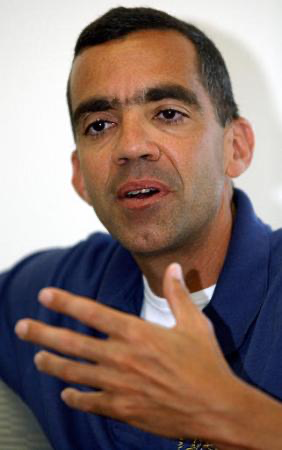Face: (60, 68, 232, 260)
